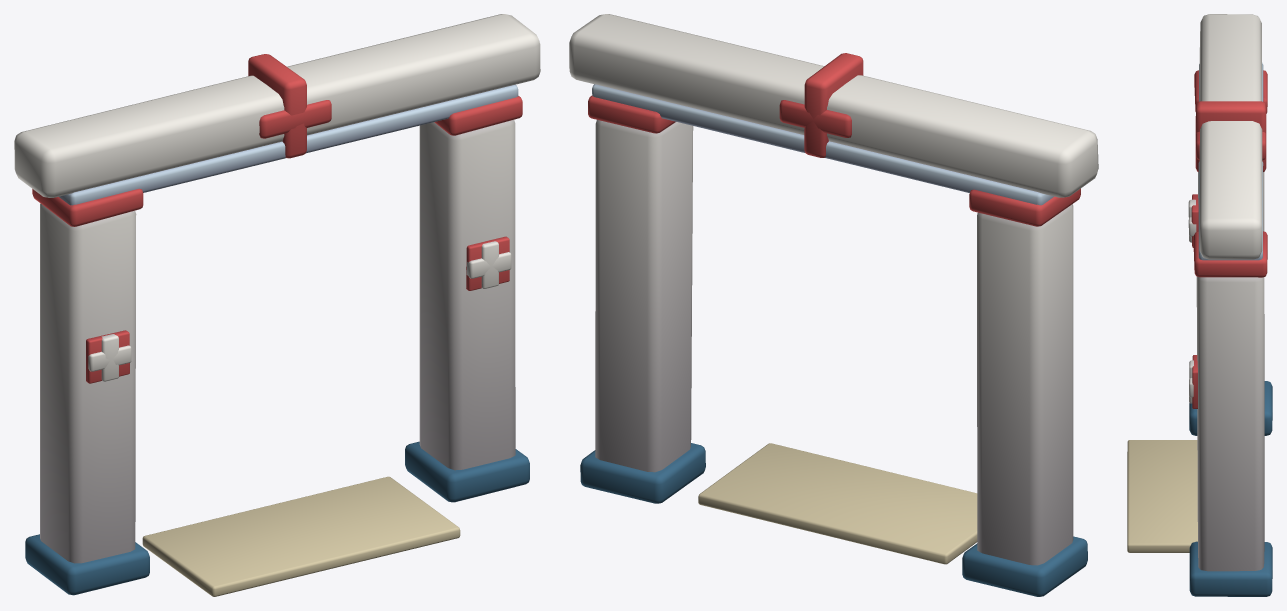
3 views of the same model, side by side, from view 1: azimuth 30°, elevation 25°; view 2: azimuth 150°, elevation 25°; view 3: azimuth 270°, elevation 25° (orthographic). The views are drawn at different scales.
Visible parts, largest first — view 1: gate_a11fcb0f; view 2: gate_a11fcb0f; view 3: gate_a11fcb0f.
Part boxes in pixels (x1,y1,x2,y2): gate_a11fcb0f: (14,14,540,596); gate_a11fcb0f: (569,14,1098,596); gate_a11fcb0f: (1127,14,1272,596).
Bounding box in the file's own units: 4.83 × 4.23 × 1.4.
